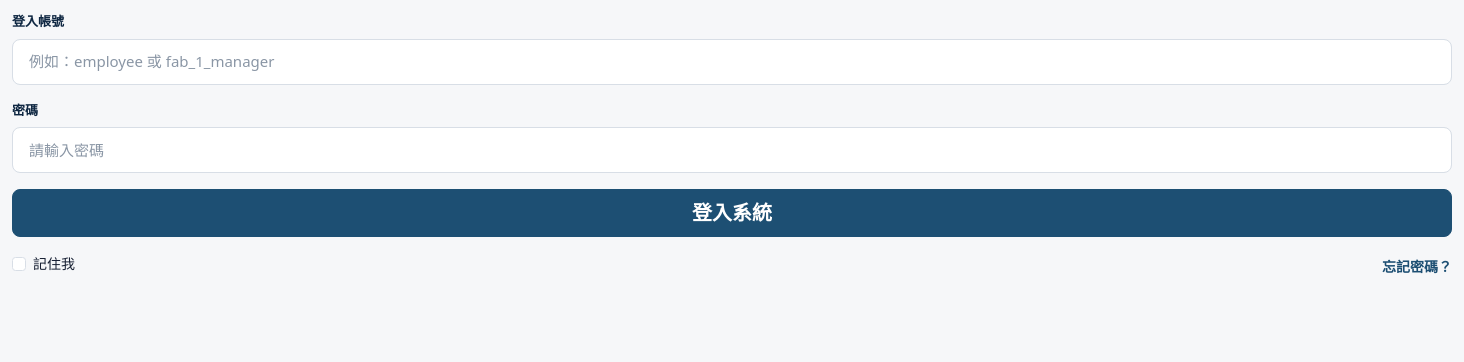
LoginForm › submits employee id and password through the auth service
Type "manager" into the field labelled "登入帳號" at point(732, 62), box [12,38,1452,84]
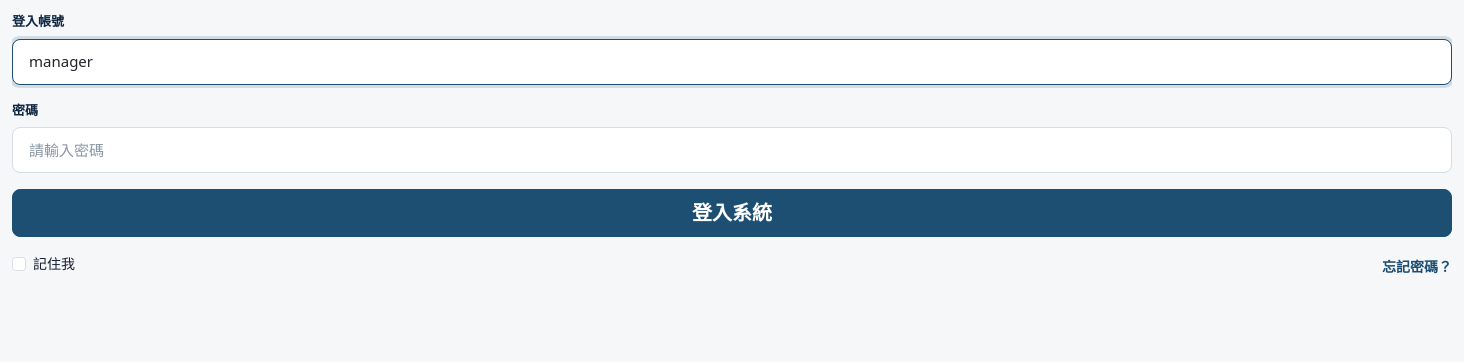
Type "demo123" into the password field labelled "密碼" at point(732, 150), box [12,127,1452,173]
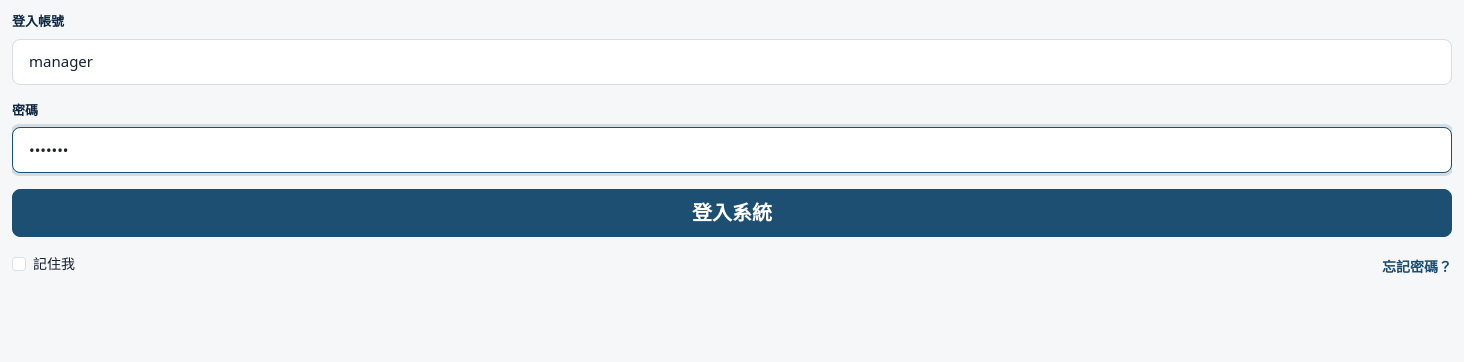
Click the button "登入系統" at point(732, 213), box [12,189,1452,237]
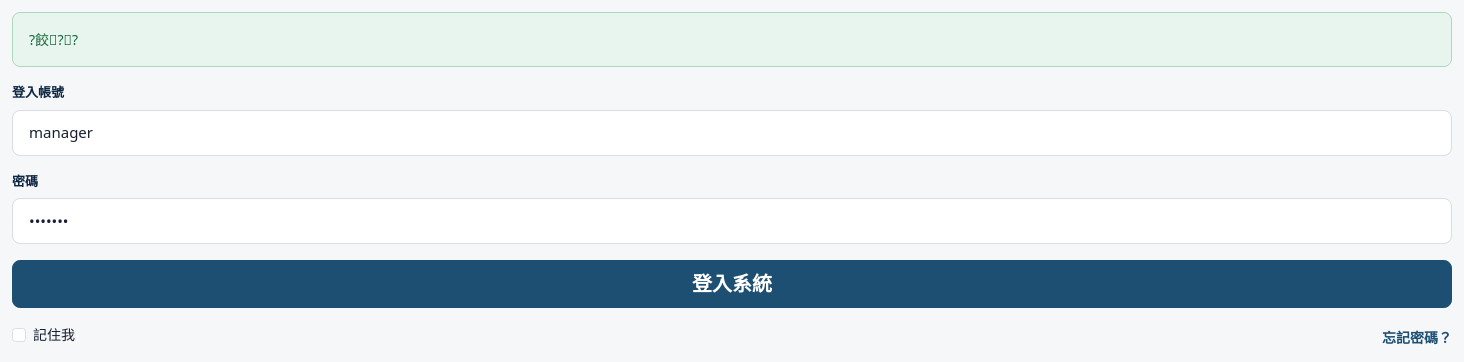
Now the text "?餃??" is shown, box [12,12,1452,67]
